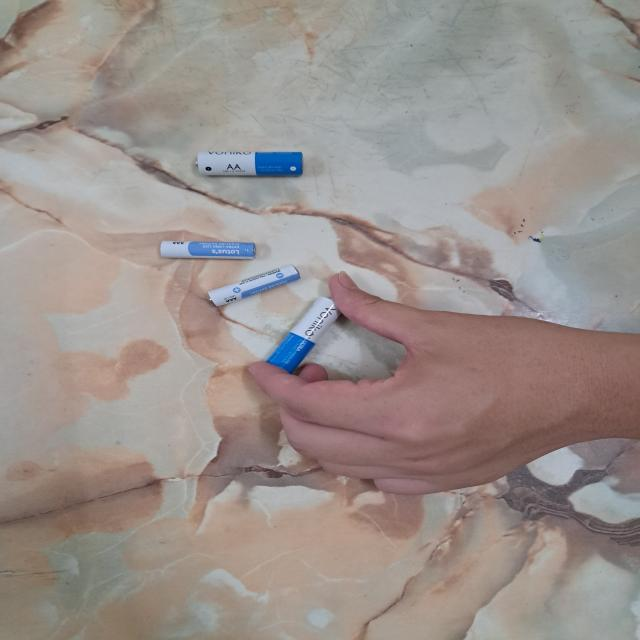battery: (263, 294, 343, 374), (207, 263, 302, 308), (194, 150, 304, 177), (158, 239, 258, 261)
